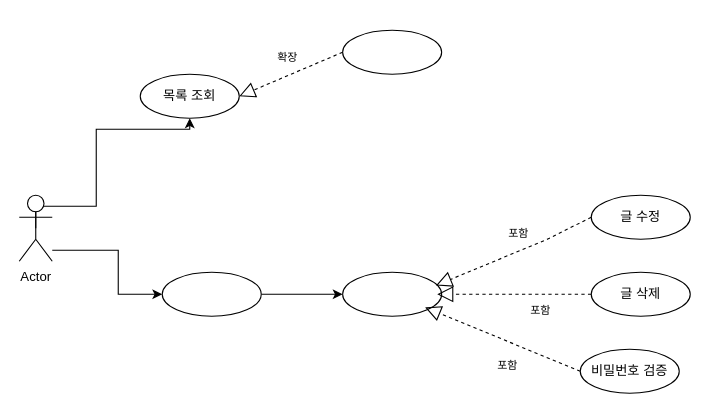
This 710x413 diagram has some shape labels left out. The shapes that lost their labels are listed below. From the top down, each one's centre as x and y in pixels, then its label:
At point 392,51: "상세 조회".
At point 211,293: "글 작성".
At point 392,293: "작성자 인증".
